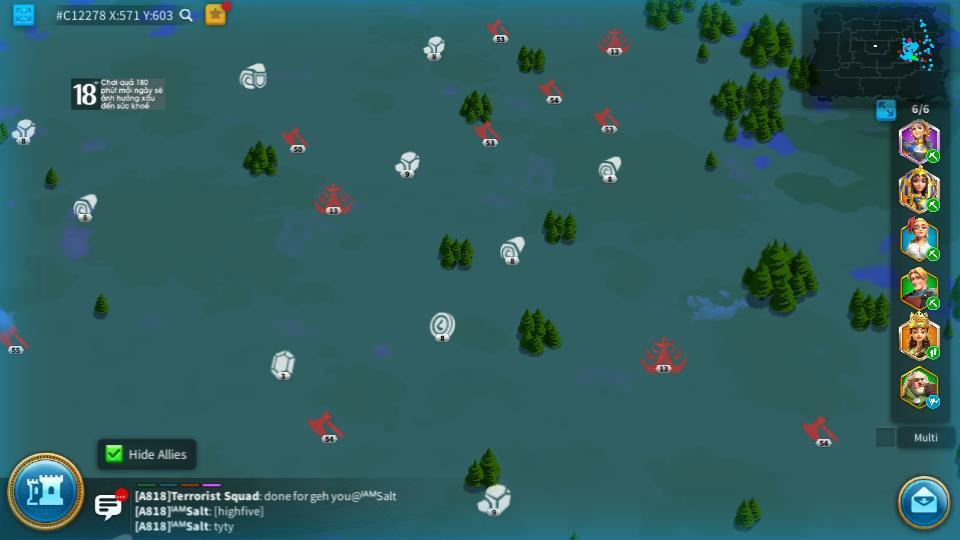gem-z-out: (270, 351, 295, 379)
march_farming: (925, 197, 941, 212), (925, 149, 941, 162), (925, 297, 942, 308), (926, 249, 940, 261)
march_idle: (925, 396, 942, 408)
march_marching: (925, 345, 942, 359)
